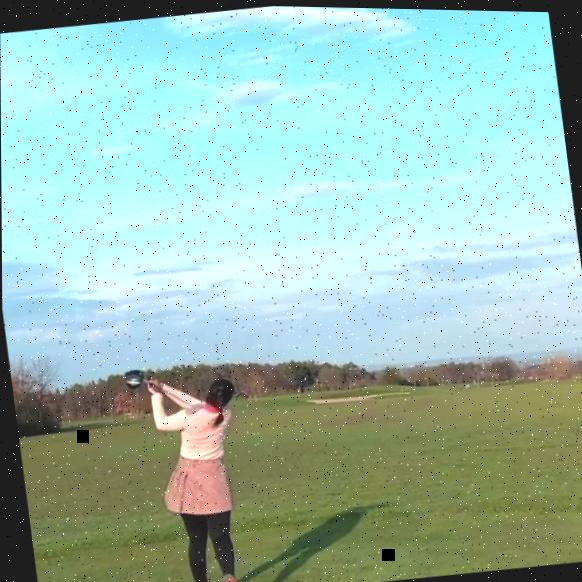ClubHead: (123, 368, 144, 388)
